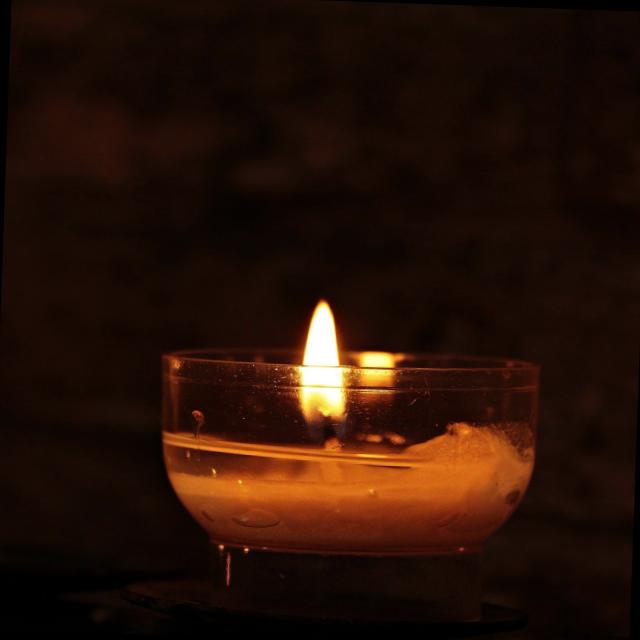Fire_Save: (146, 292, 544, 624)
